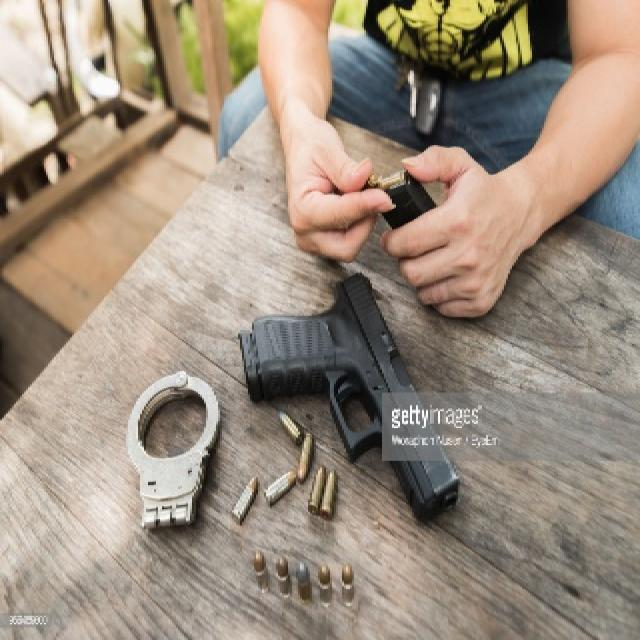handgun: (235, 270, 463, 523)
